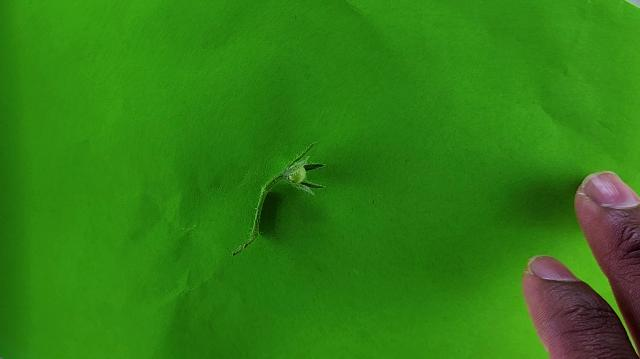Fruit Bud: (279, 142, 327, 192)
